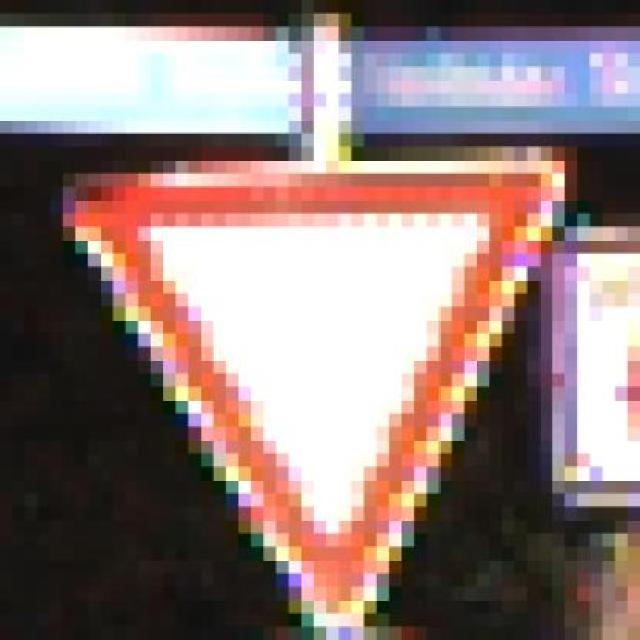Give Way: (43, 152, 583, 632)
